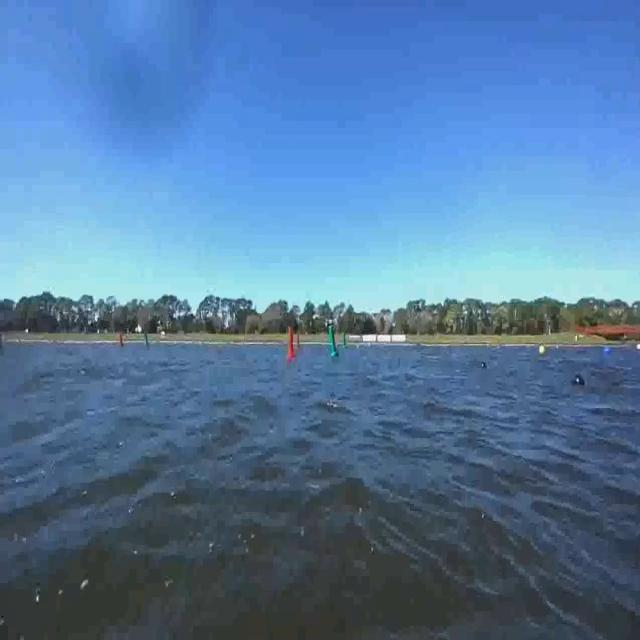black-buoy: (572, 373, 585, 389), (483, 363, 487, 368)
blue-buoy: (603, 345, 611, 358)
green-column-buoy: (327, 325, 338, 357), (144, 332, 151, 352), (342, 329, 348, 349)
red-column-buoy: (286, 328, 296, 361), (295, 333, 301, 354), (120, 333, 127, 350)
yellow-buoy: (538, 344, 546, 358)
